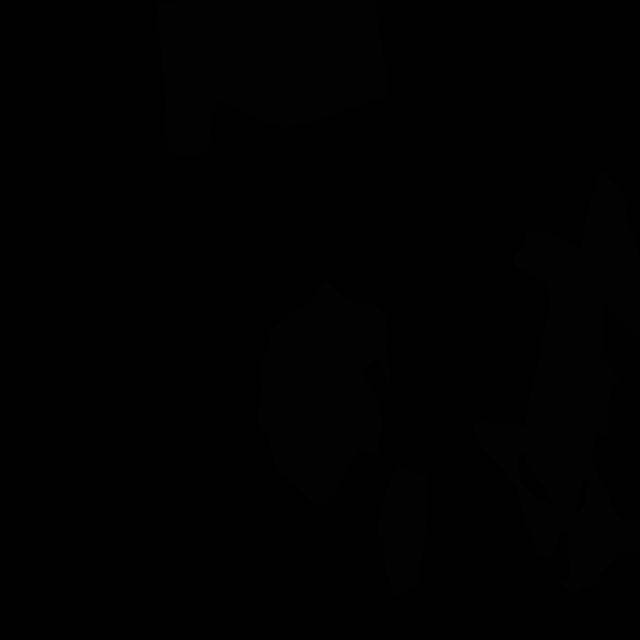cardboard: (156, 0, 386, 157), (259, 279, 392, 507), (472, 420, 640, 593), (514, 170, 640, 390), (524, 359, 598, 512), (378, 463, 428, 597), (574, 314, 622, 439)
